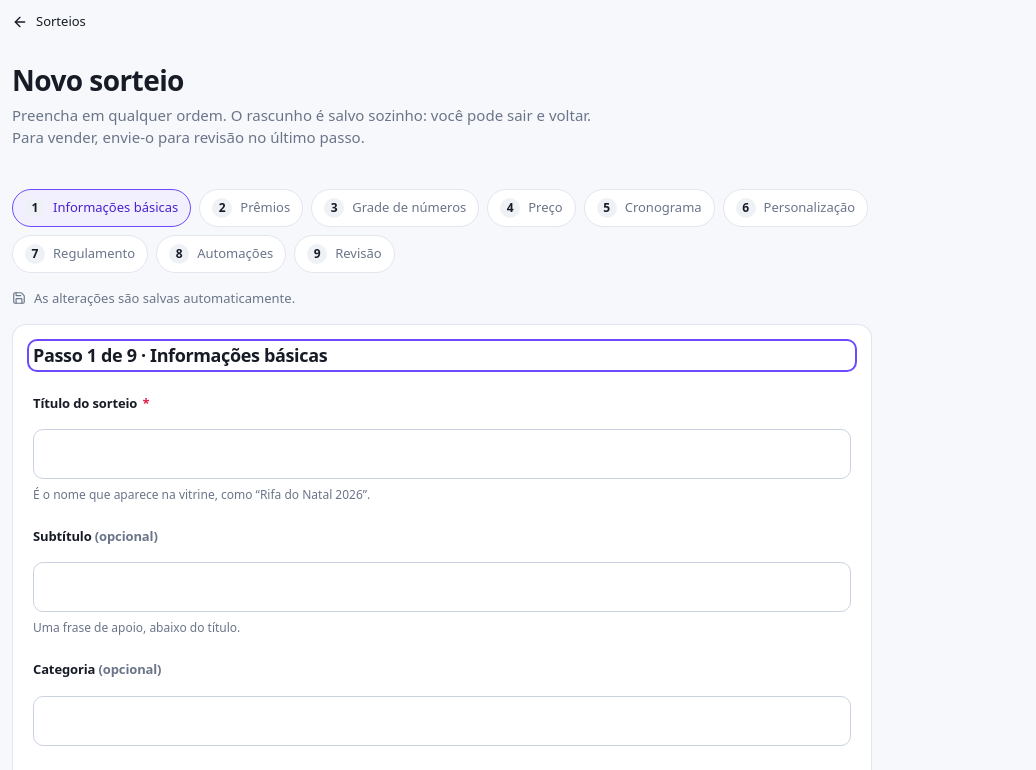
Test: passos › grade: 100, 500 e 1000 com a faixa real dos rotulos
Click the button "3 Grade de números".
click(395, 208)  # box [311,189,479,227]
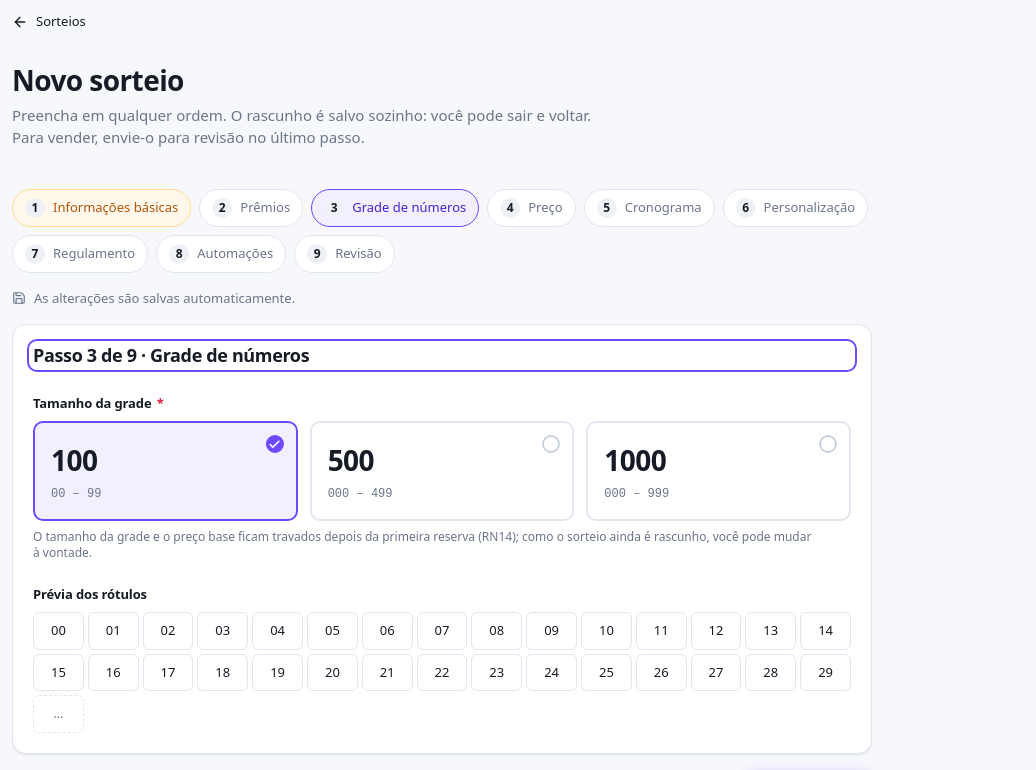
Expected: the text "00 – 99" is shown, [51,487,101,501]
Expected: the text "000 – 499" is shown, [328,487,392,501]
Expected: the text "000 – 999" is shown, [604,487,669,501]
Click the radio button labelled "1000 000 – 999".
click(635, 460)  # box [586,421,851,521]
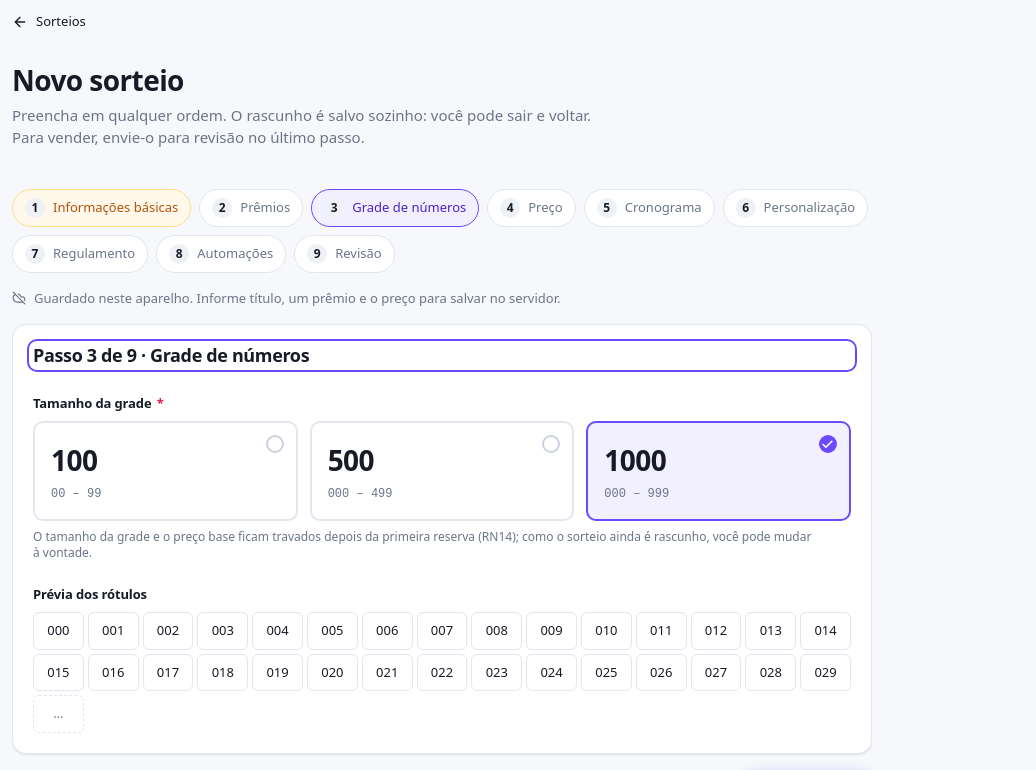
Expected: the list named "Primeiros números da grade de 1000" shows "000", [47,621,70,639]
